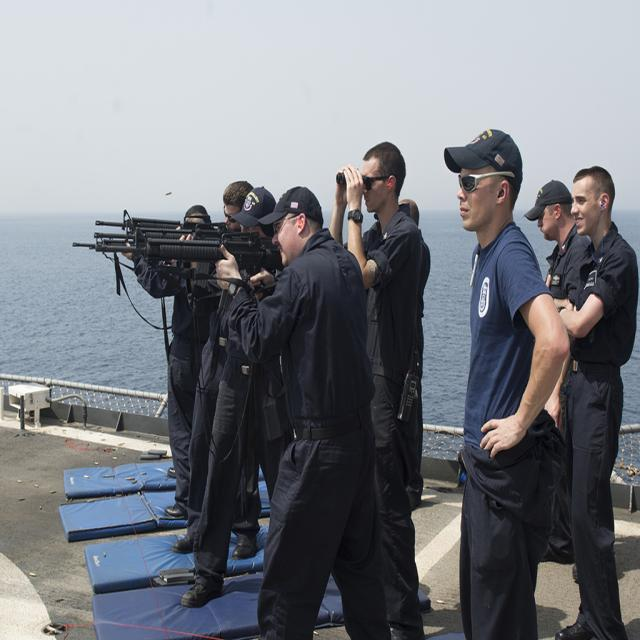Weapon: (69, 189, 349, 365)
